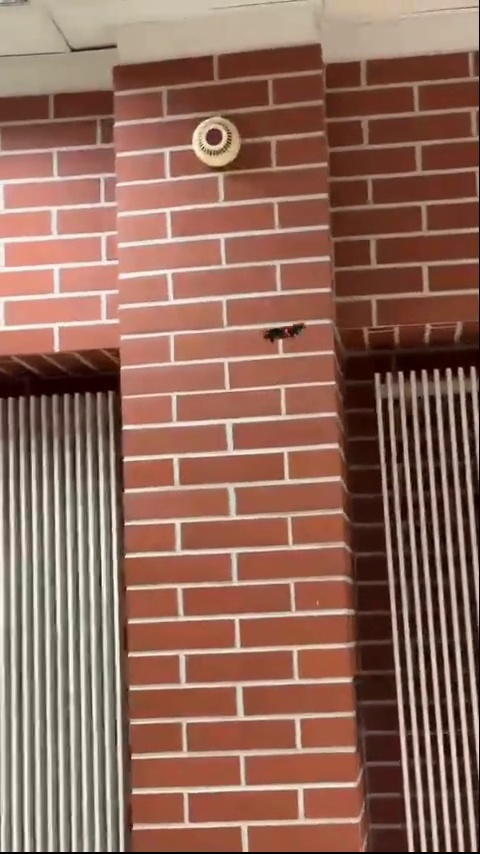drone: (270, 324, 307, 347)
